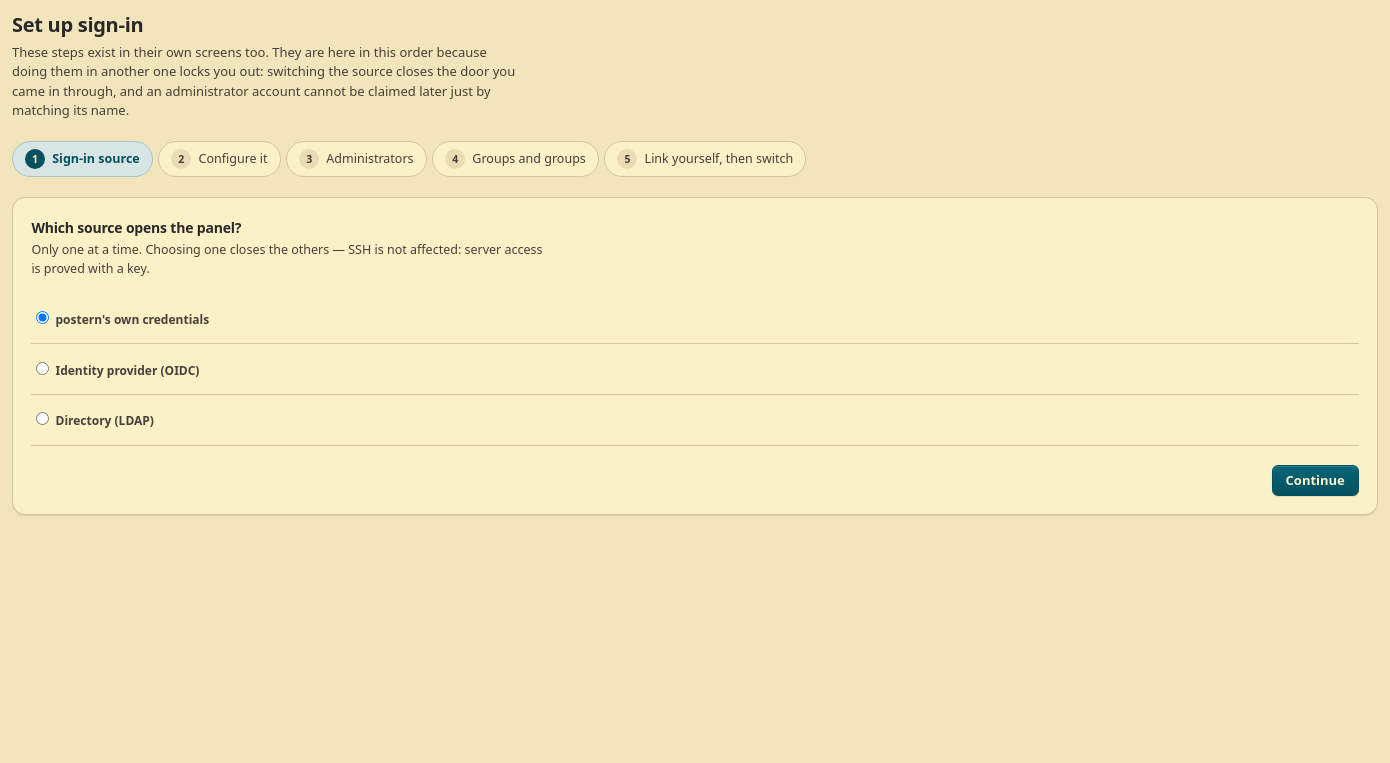
Test: kurulum sihirbazi › eslemenin her iki durumda da gerektigini soyler
Check: the heading "Which source opens the panel?" is shown, box [31,218,241,237]
// Kaynak temelli bir kurulum: eşleme orada gerçekten gerekli.
Click the radio button labelled "Directory (LDAP)" at x=43, y=419, box [36,412,49,425]
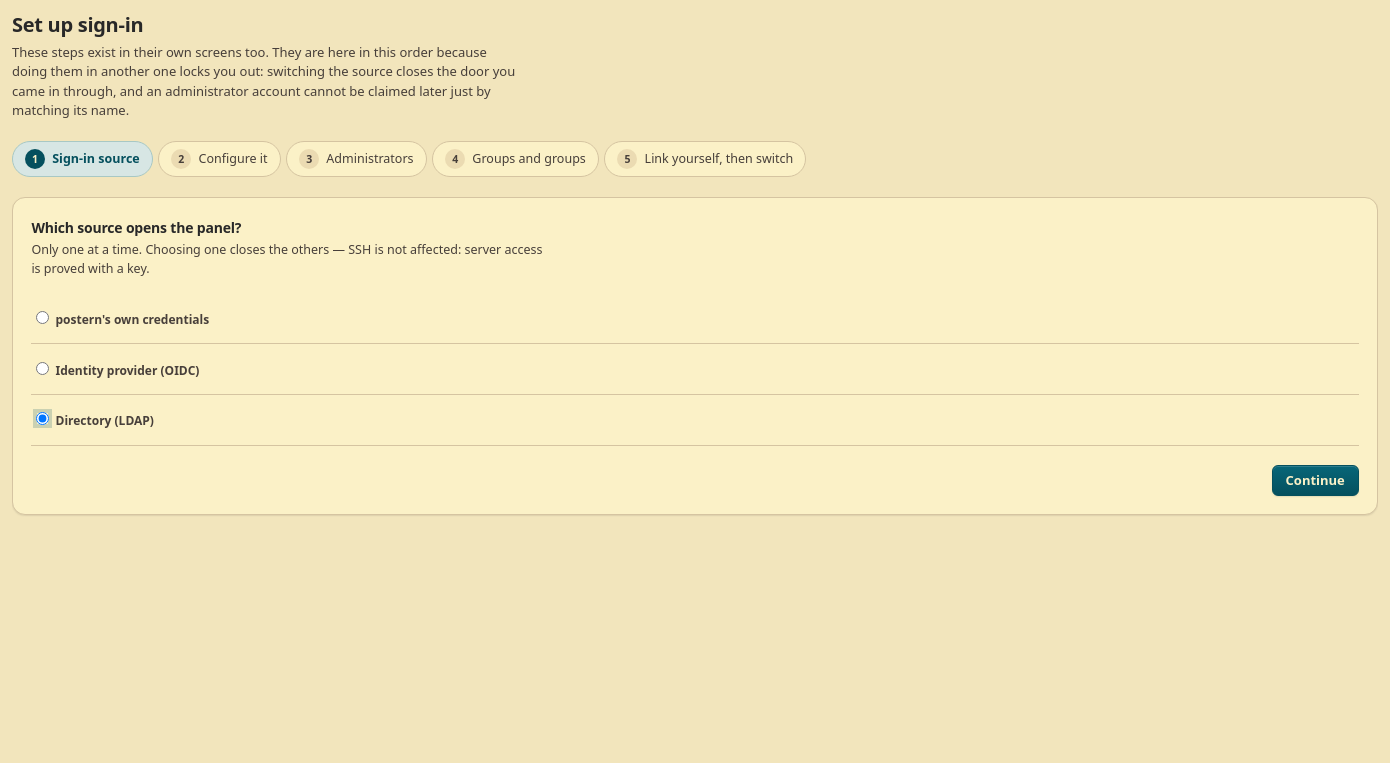
Click the button "4 Groups and groups" at x=516, y=159, box [432,141,599,177]
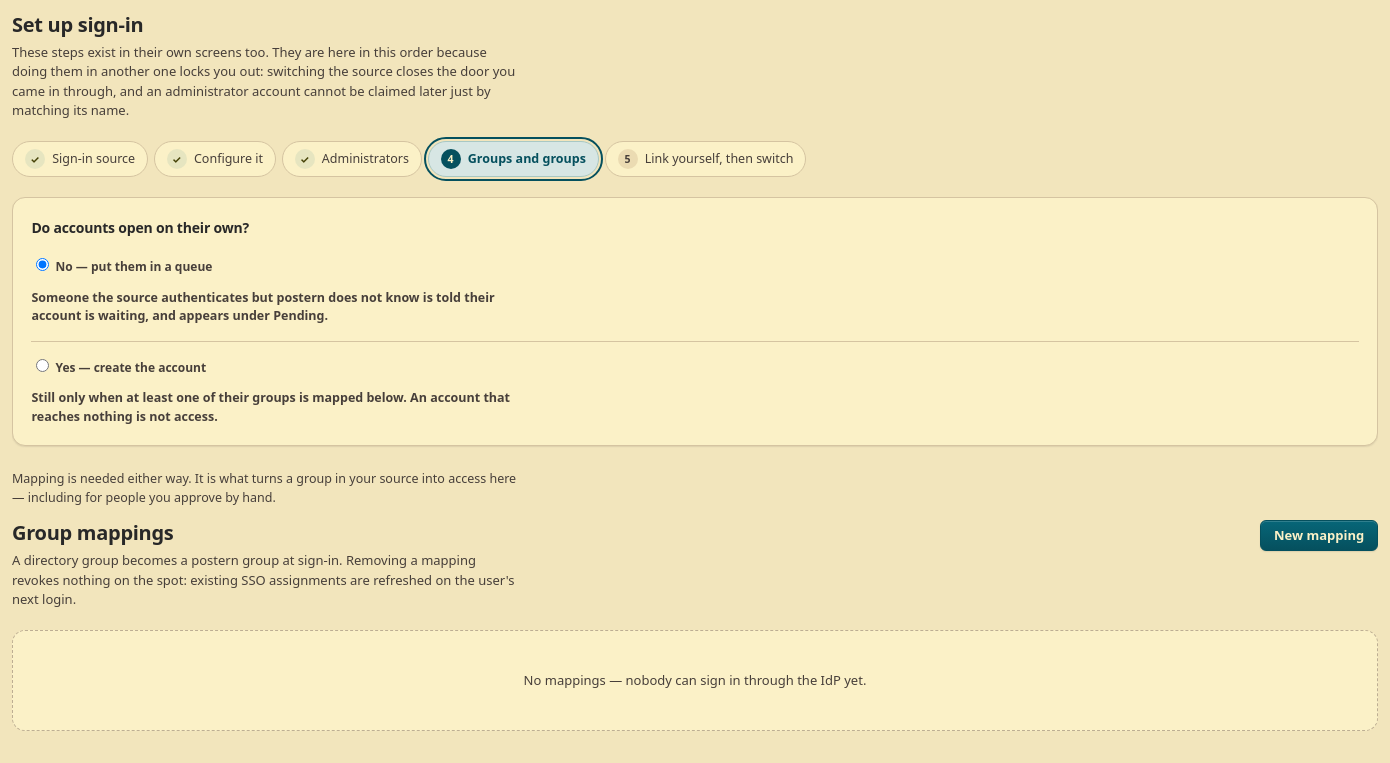
Check: the text "Mapping is needed either way" is shown, box [12,470,516,506]
